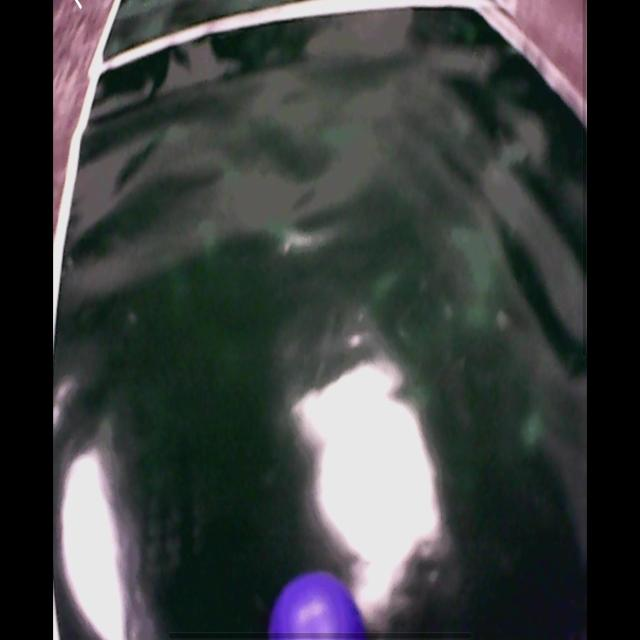ball: (269, 578, 365, 640)
